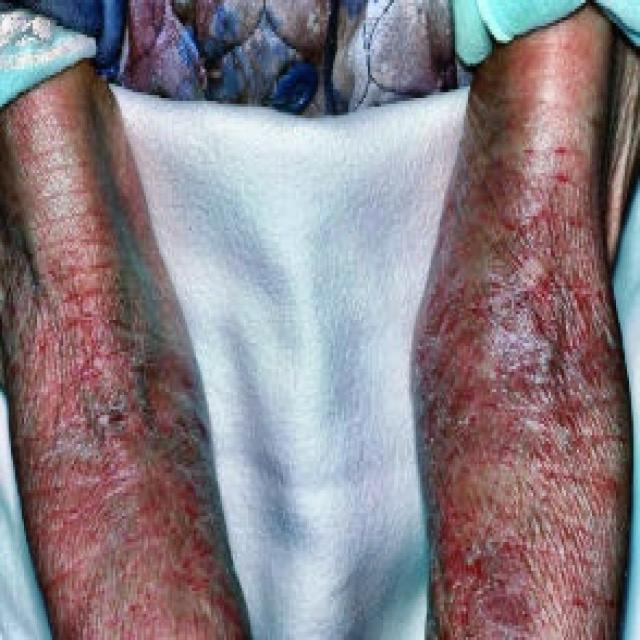Atopic-Dermatitis: (439, 99, 614, 634), (35, 157, 219, 613)
